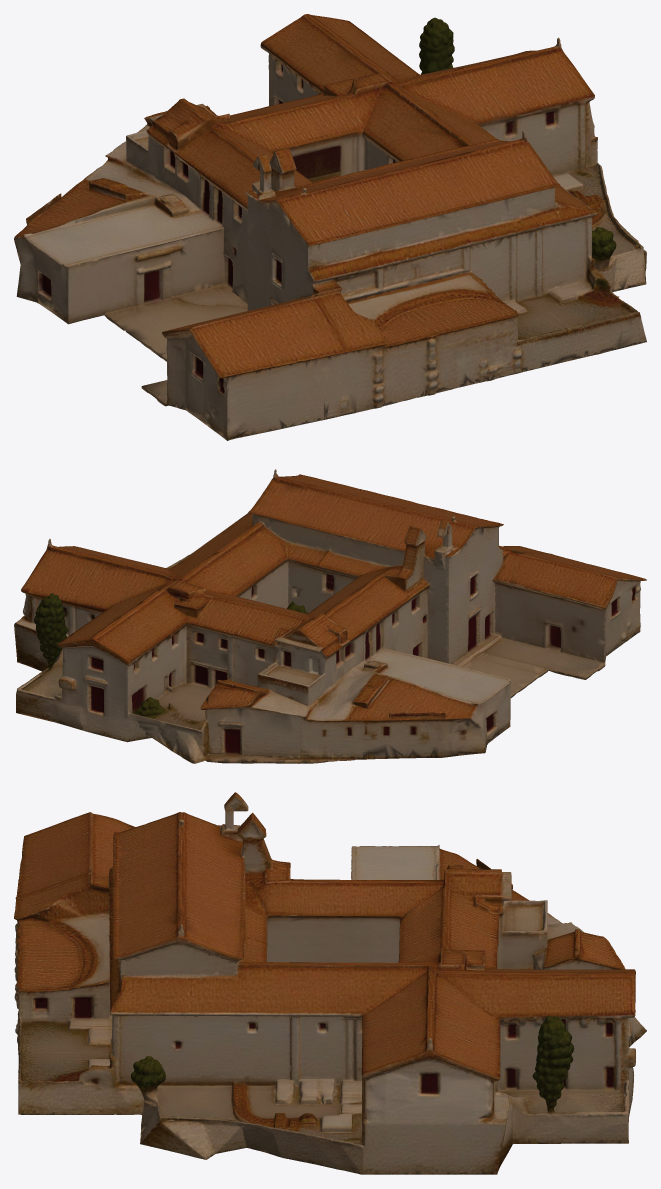
File: cappuccini1.glb
3 views of the same model, one above another, from view 1: azimuth 30°, elevation 25°; view 2: azimuth 150°, elevation 25°; view 3: azimuth 270°, elevation 25° (orthographic). The views are drawn at different scales.
Parts seen in each view (by area): view 1: tripo_node_1b4055a2-51bf-4e8c-bec9-d960ed33bd6b; view 2: tripo_node_1b4055a2-51bf-4e8c-bec9-d960ed33bd6b; view 3: tripo_node_1b4055a2-51bf-4e8c-bec9-d960ed33bd6b.
Part boxes in pixels (bbox=[...]): tripo_node_1b4055a2-51bf-4e8c-bec9-d960ed33bd6b: bbox=[14, 14, 646, 440]; tripo_node_1b4055a2-51bf-4e8c-bec9-d960ed33bd6b: bbox=[14, 469, 646, 763]; tripo_node_1b4055a2-51bf-4e8c-bec9-d960ed33bd6b: bbox=[14, 792, 646, 1174].
Bounding box in the file's own units: 0.9651 × 0.3067 × 0.9436.
Materials: 1 (1 with a texture image).
